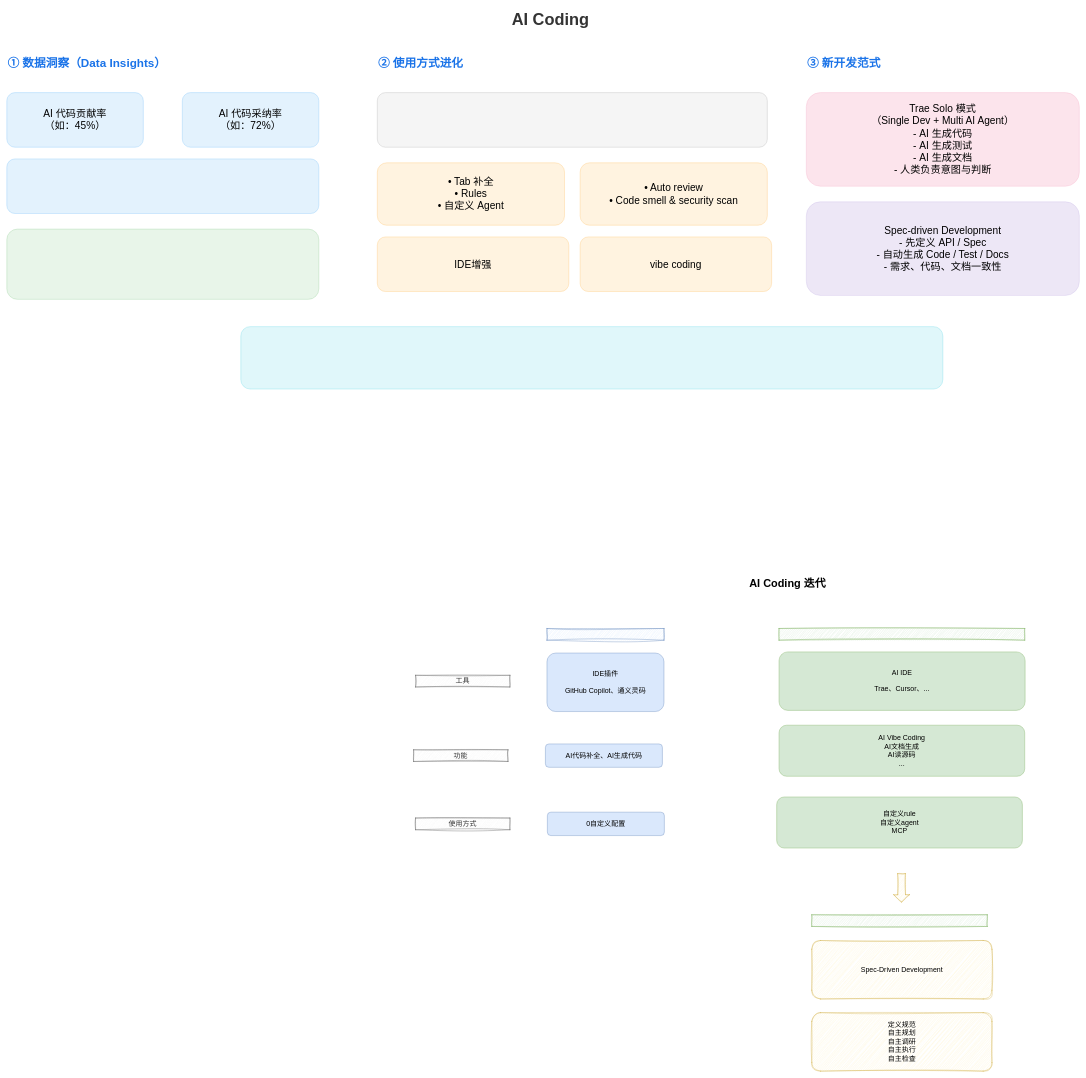
Some shapes in this 1086 by 1078 pixel diagram are drawn without their labels. Each missing label, with the centre of its shape:
"④ 年度总结：团队从“使用 AI”迈向“AI-native 工程体系”，效率与质量全面提升。" goes at point (591, 357).
"基础使用" goes at point (605, 634).
"新范式探索" goes at point (899, 920).
"旧代码删除率 （AI-assisted Refactoring）" goes at point (162, 186).
"研发效率对比 人工 vs AI Coding （8h → 3h | 步骤减少 | 产出提升）" goes at point (162, 264).
"进阶使用" goes at point (902, 634).
"需求 → 设计 → Coding → Review → Test → Release" goes at point (572, 119).
